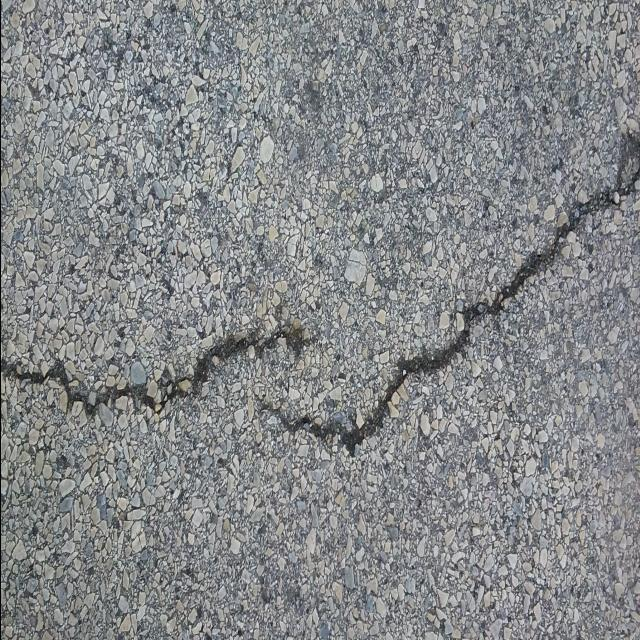Crack: (259, 136, 640, 458), (0, 324, 310, 420)
